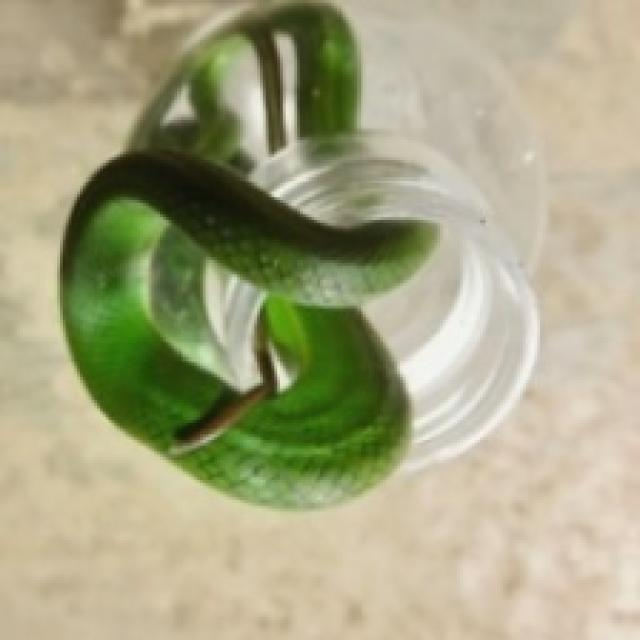red-tailed green ratsnake: (60, 3, 437, 506)
